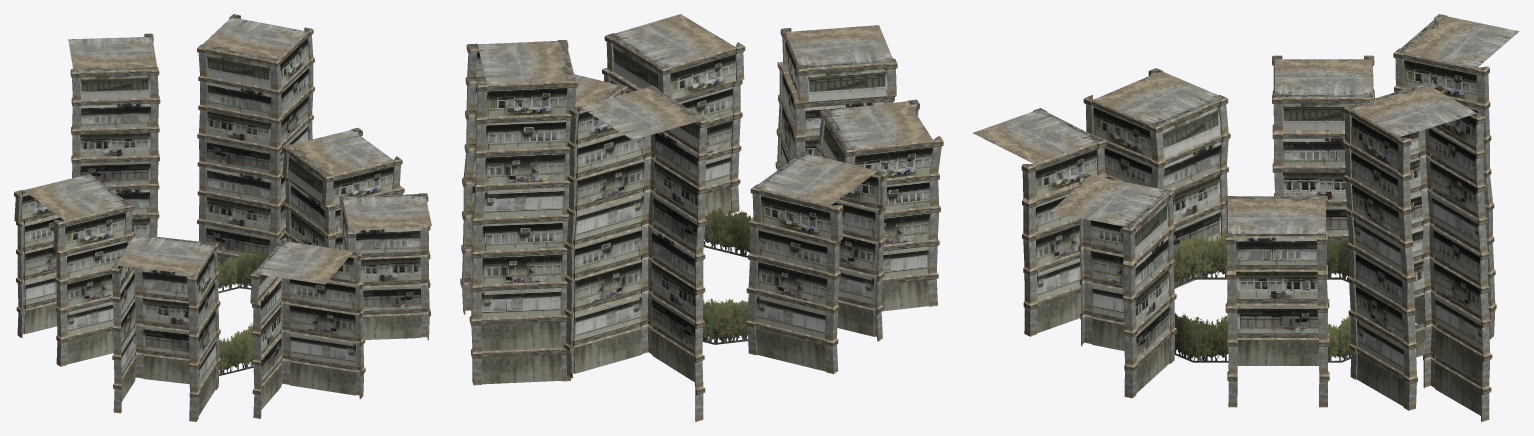
The model's file is Dragonfly_Stairway_Scenery.fbx.
3 renders of one model, left to right at view 1: azimuth 30°, elevation 25°; view 2: azimuth 150°, elevation 25°; view 3: azimuth 270°, elevation 25°, orthographic. The views are drawn at different scales.
Visible parts, largest first — view 1: External_Scenery; view 2: External_Scenery; view 3: External_Scenery.
Part boxes in pixels (left/top/right/bottom): External_Scenery: left=14, top=14, right=431, bottom=421; External_Scenery: left=460, top=14, right=943, bottom=421; External_Scenery: left=973, top=14, right=1519, bottom=421.
Bounding box in the file's own units: 98.51 × 74.92 × 123.
